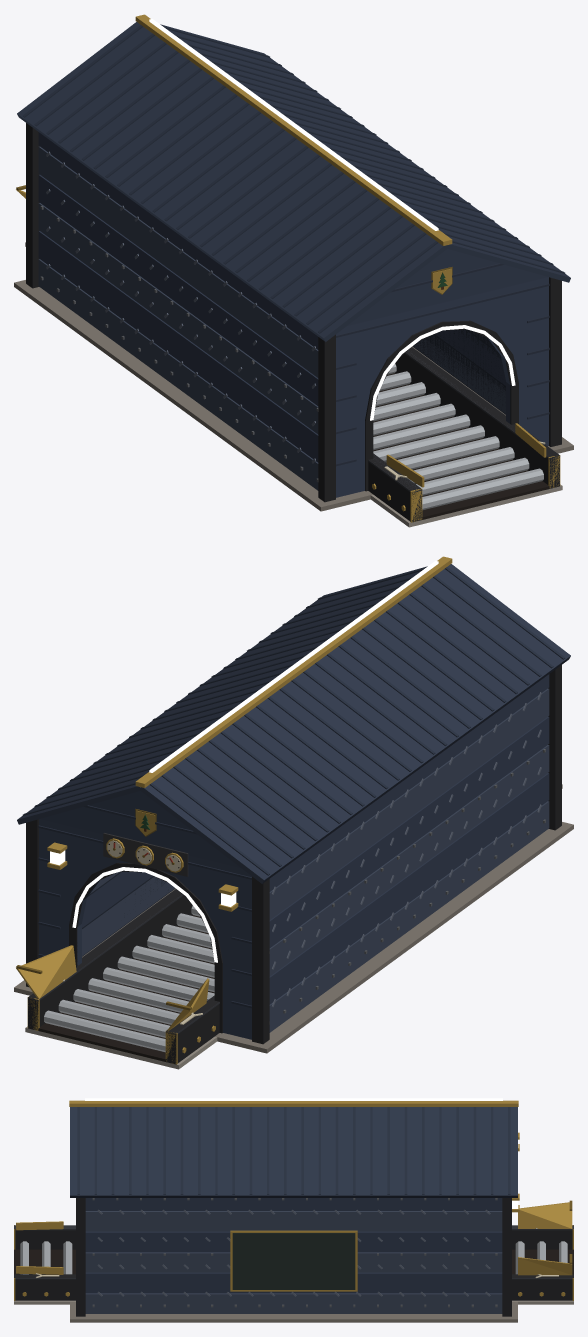
File: Millmaster200L.glb
3 renders of one model, top to bottom at view 1: azimuth 30°, elevation 25°; view 2: azimuth 150°, elevation 25°; view 3: azimuth 270°, elevation 25°, orthographic. The views are drawn at different scales.
Visible parts, largest first — view 1: Body, Rollers, Glow, Belt; view 2: Body, Rollers, Glow, Belt; view 3: Body, Rollers, Glow, Belt.
Boxes of the visible parts, bbox=[...] form: Body: bbox=[14, 14, 573, 527]; Rollers: bbox=[372, 363, 543, 511]; Glow: bbox=[149, 19, 515, 420]; Belt: bbox=[373, 373, 549, 519]; Body: bbox=[14, 556, 573, 1069]; Rollers: bbox=[44, 905, 215, 1053]; Glow: bbox=[50, 561, 438, 962]; Belt: bbox=[38, 915, 214, 1061]; Body: bbox=[14, 1100, 573, 1322]; Rollers: bbox=[20, 1241, 567, 1296]; Glow: bbox=[85, 1098, 518, 1208]; Belt: bbox=[14, 1249, 573, 1274].
Bounding box in the file's own units: 9.9 × 9.14 × 26.
